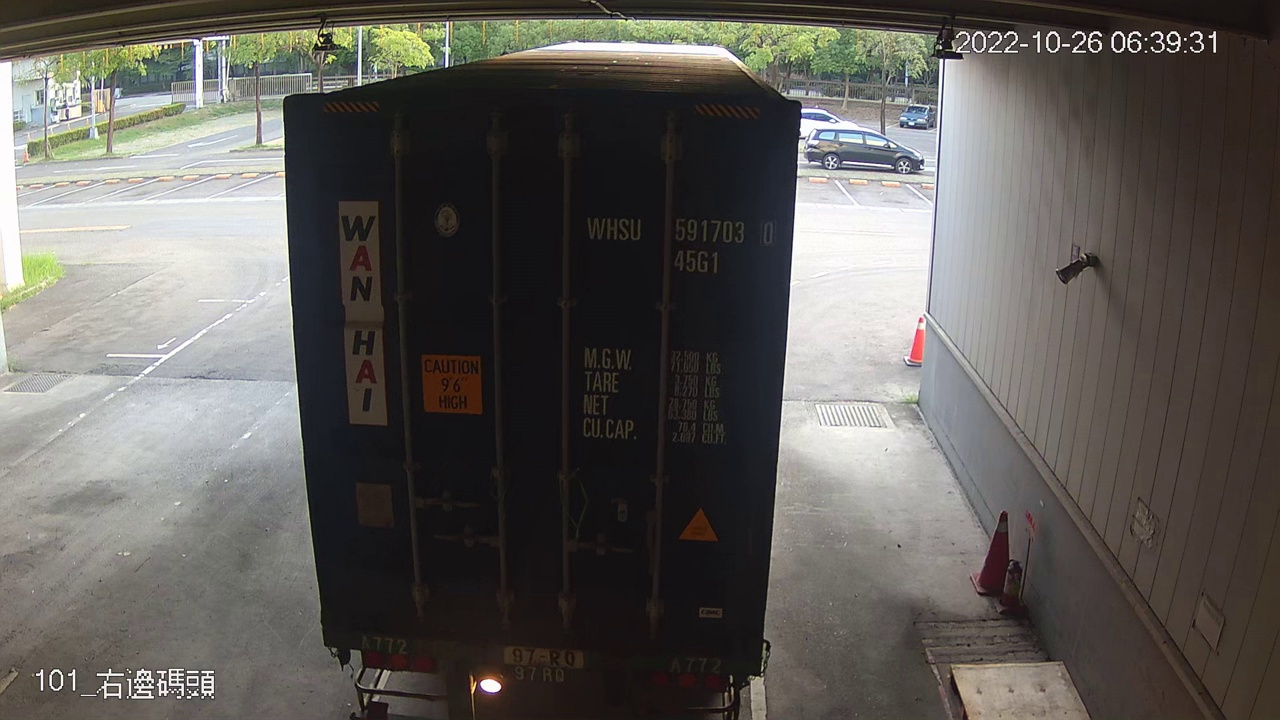container: (580, 206, 783, 280)
